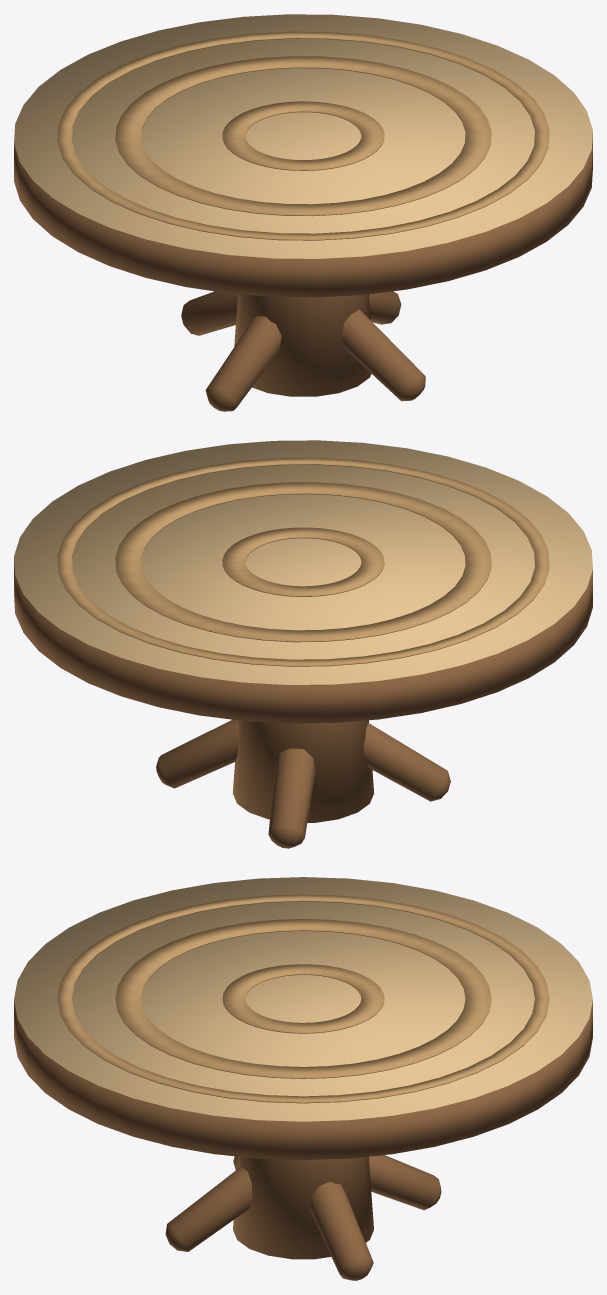
The model's file is log-table.glb.
The picture shows the model from 3 angles, top to bottom: view 1: azimuth 30°, elevation 25°; view 2: azimuth 150°, elevation 25°; view 3: azimuth 270°, elevation 25°; orthographic projection.
Parts seen in each view (by area): view 1: table; view 2: table; view 3: table.
Boxes of the visible parts, x1,y1,x2,y2 form: table: (14, 14, 592, 411); table: (14, 440, 592, 848); table: (14, 877, 592, 1280).
Bounding box in the file's own units: 1.64 × 0.723 × 1.64.
